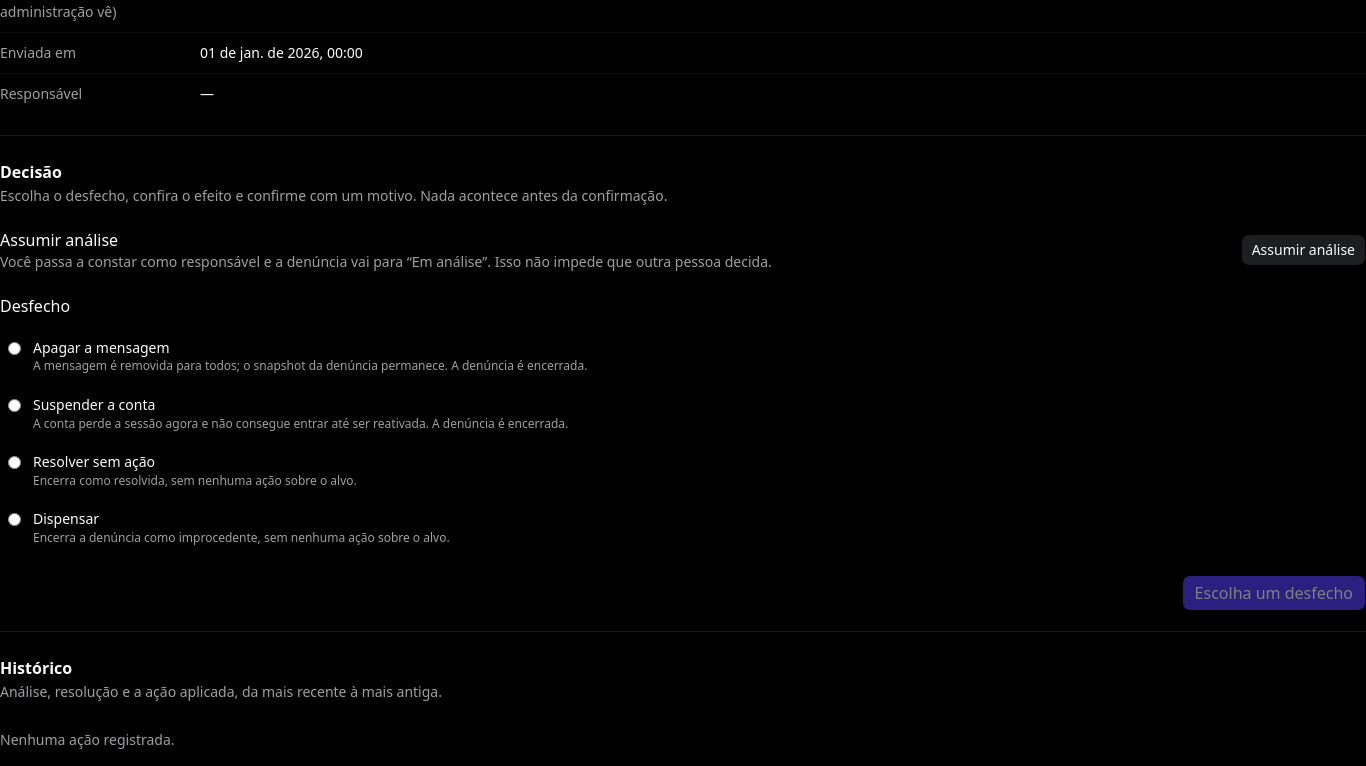
ReportDetailPage › another decision in progress on the same report: told to refresh, not a generic failure
The width and height of the screenshot is (1366, 766).
(page scrolled)
Click the radio button labelled "Resolver sem ação": (14, 463) [8, 456, 21, 469]
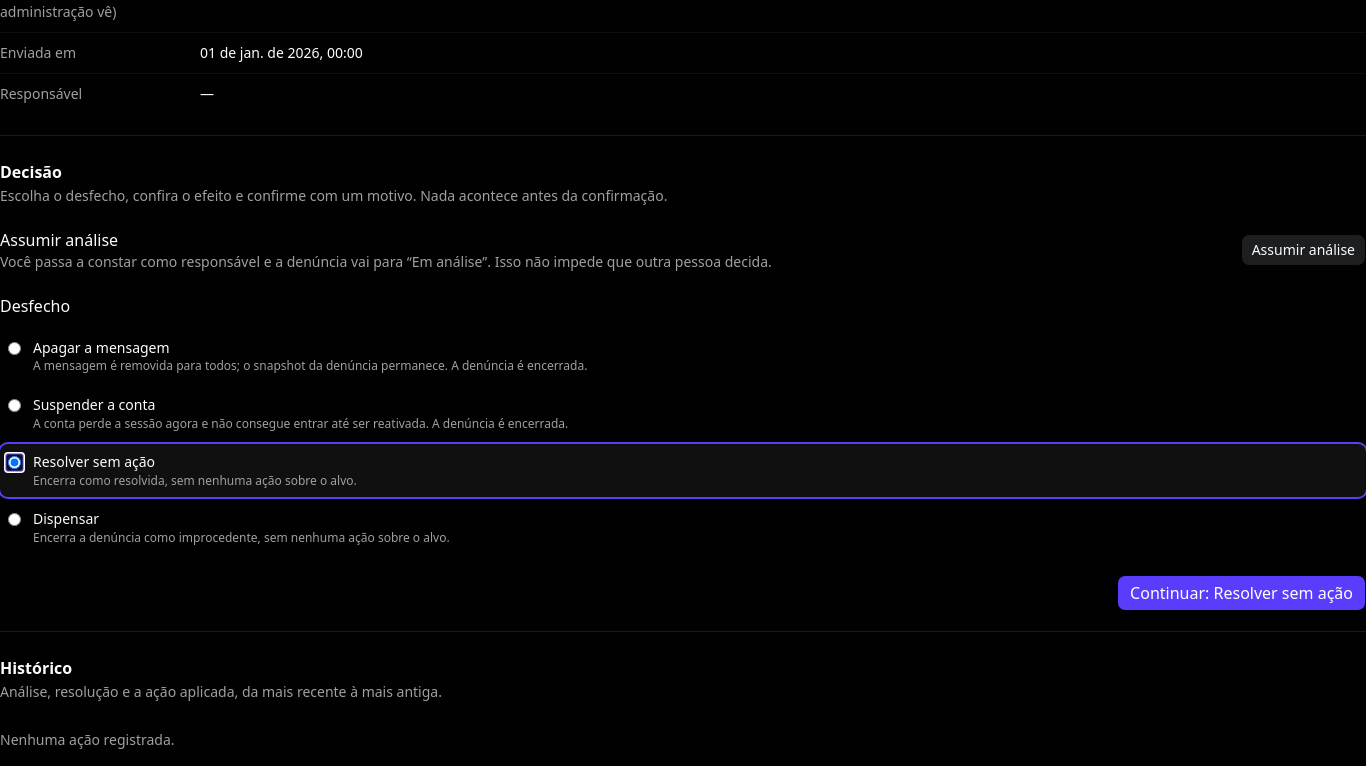
Click the button "Continuar: Resolver sem ação": (1242, 592) [1117, 574, 1365, 610]
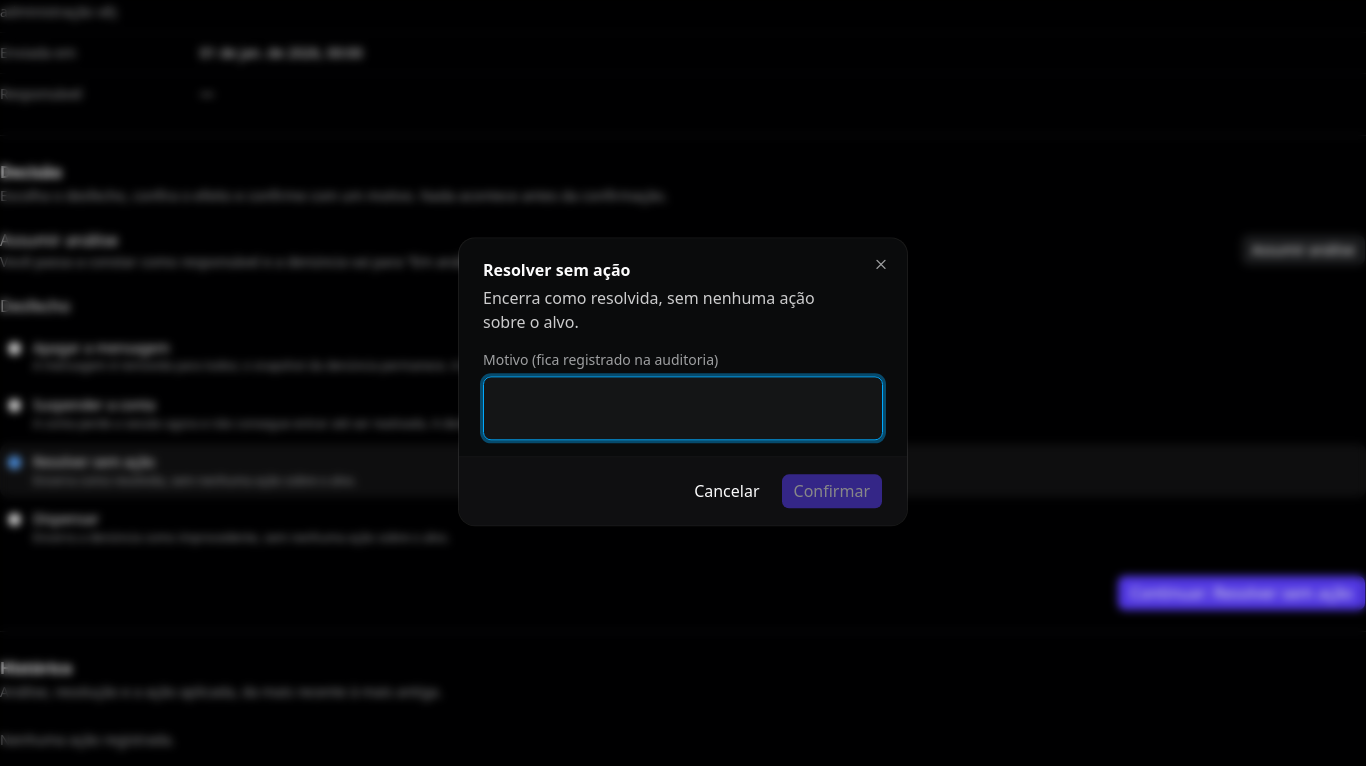
In the text box labelled "Motivo (fica registrado na auditoria)": (683, 409) [483, 377, 883, 441], type "handled elsewhere"
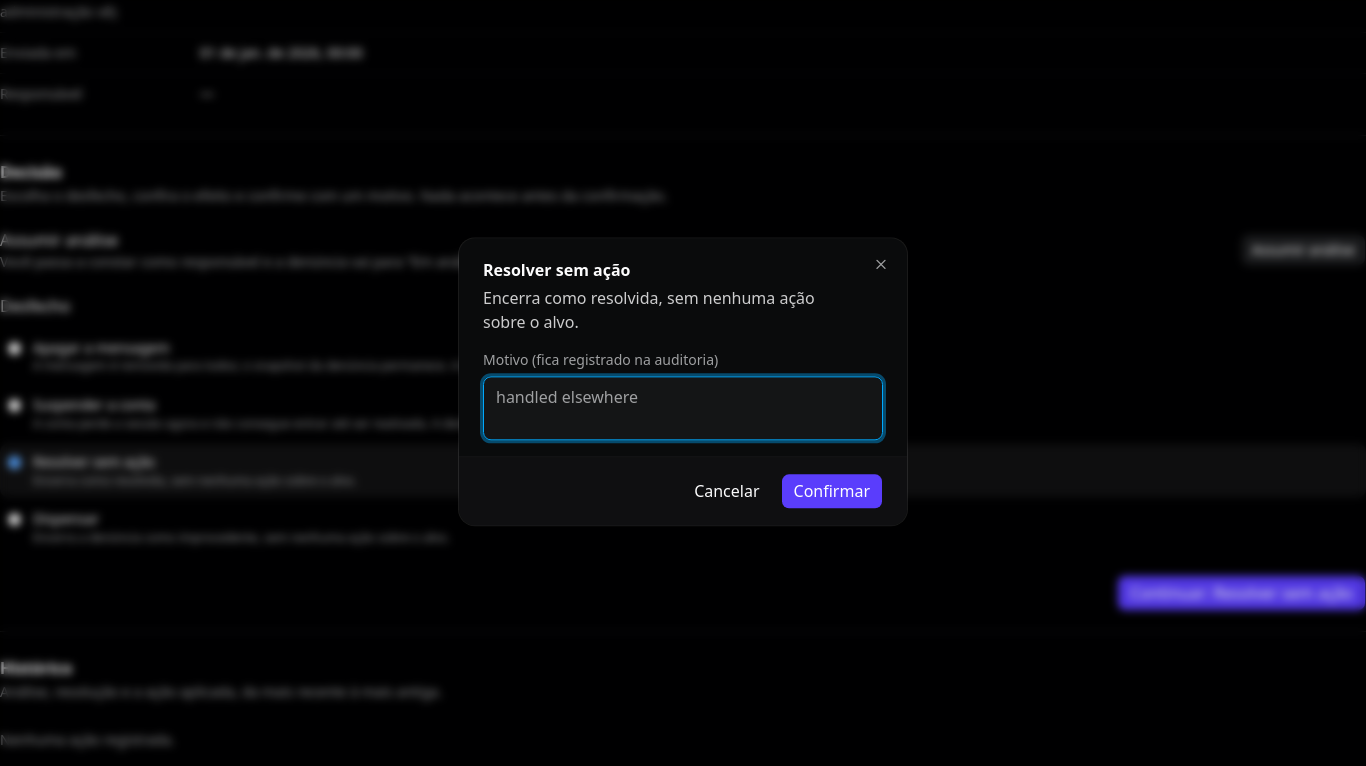
Click the button "Confirmar": (832, 492) [780, 474, 883, 510]
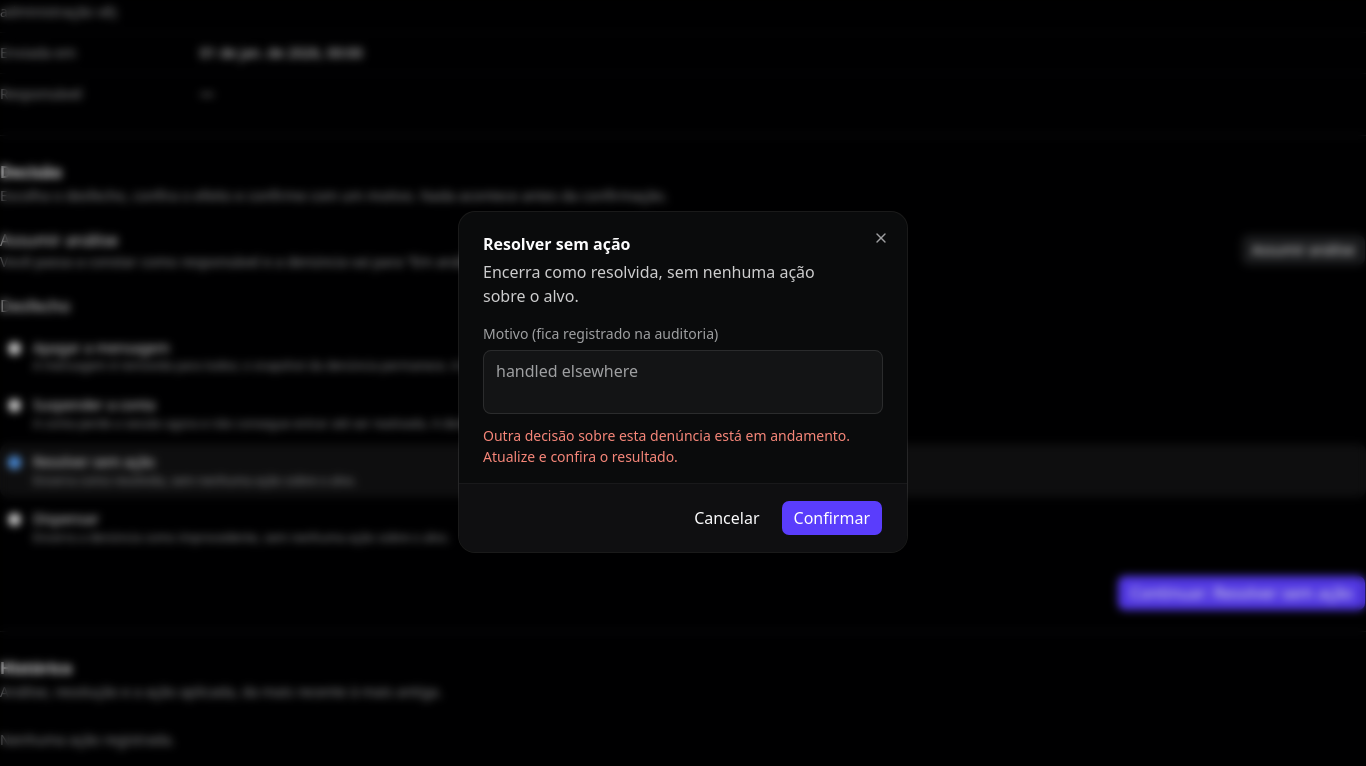
Now the message shows "Outra decisão sobre esta denúncia está em andamento", box [483, 426, 850, 466]
